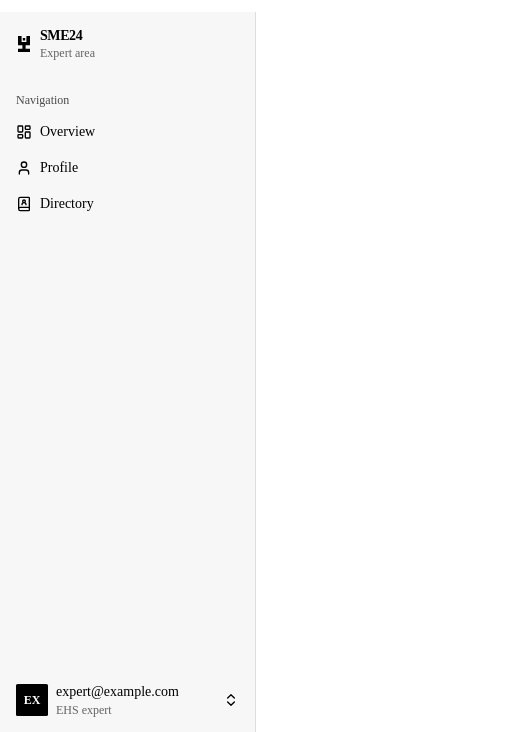
Scenario: AppSidebar, the staff areas › still shows the role label in the staff dropdown header
Click the button with aria-label "User menu": coordinates (128, 700) [8, 676, 247, 724]
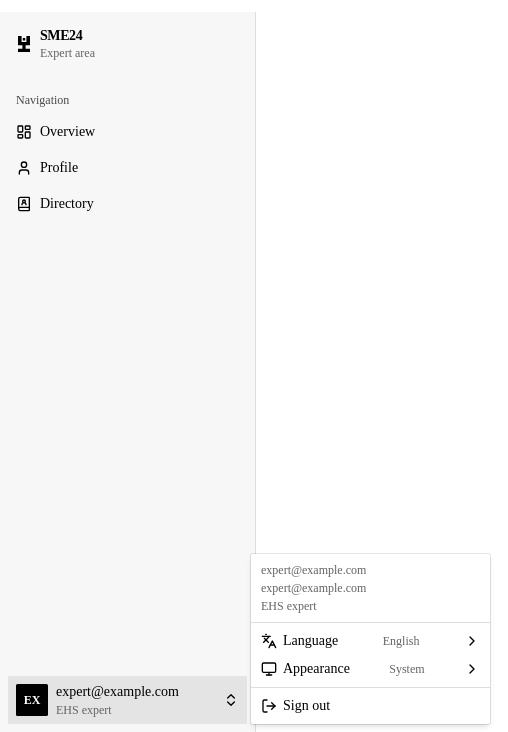
Result: the menu shows "EHS expert" at [261, 599, 317, 613]
Result: the menu shows "expert@example.com" at [261, 563, 366, 577]
